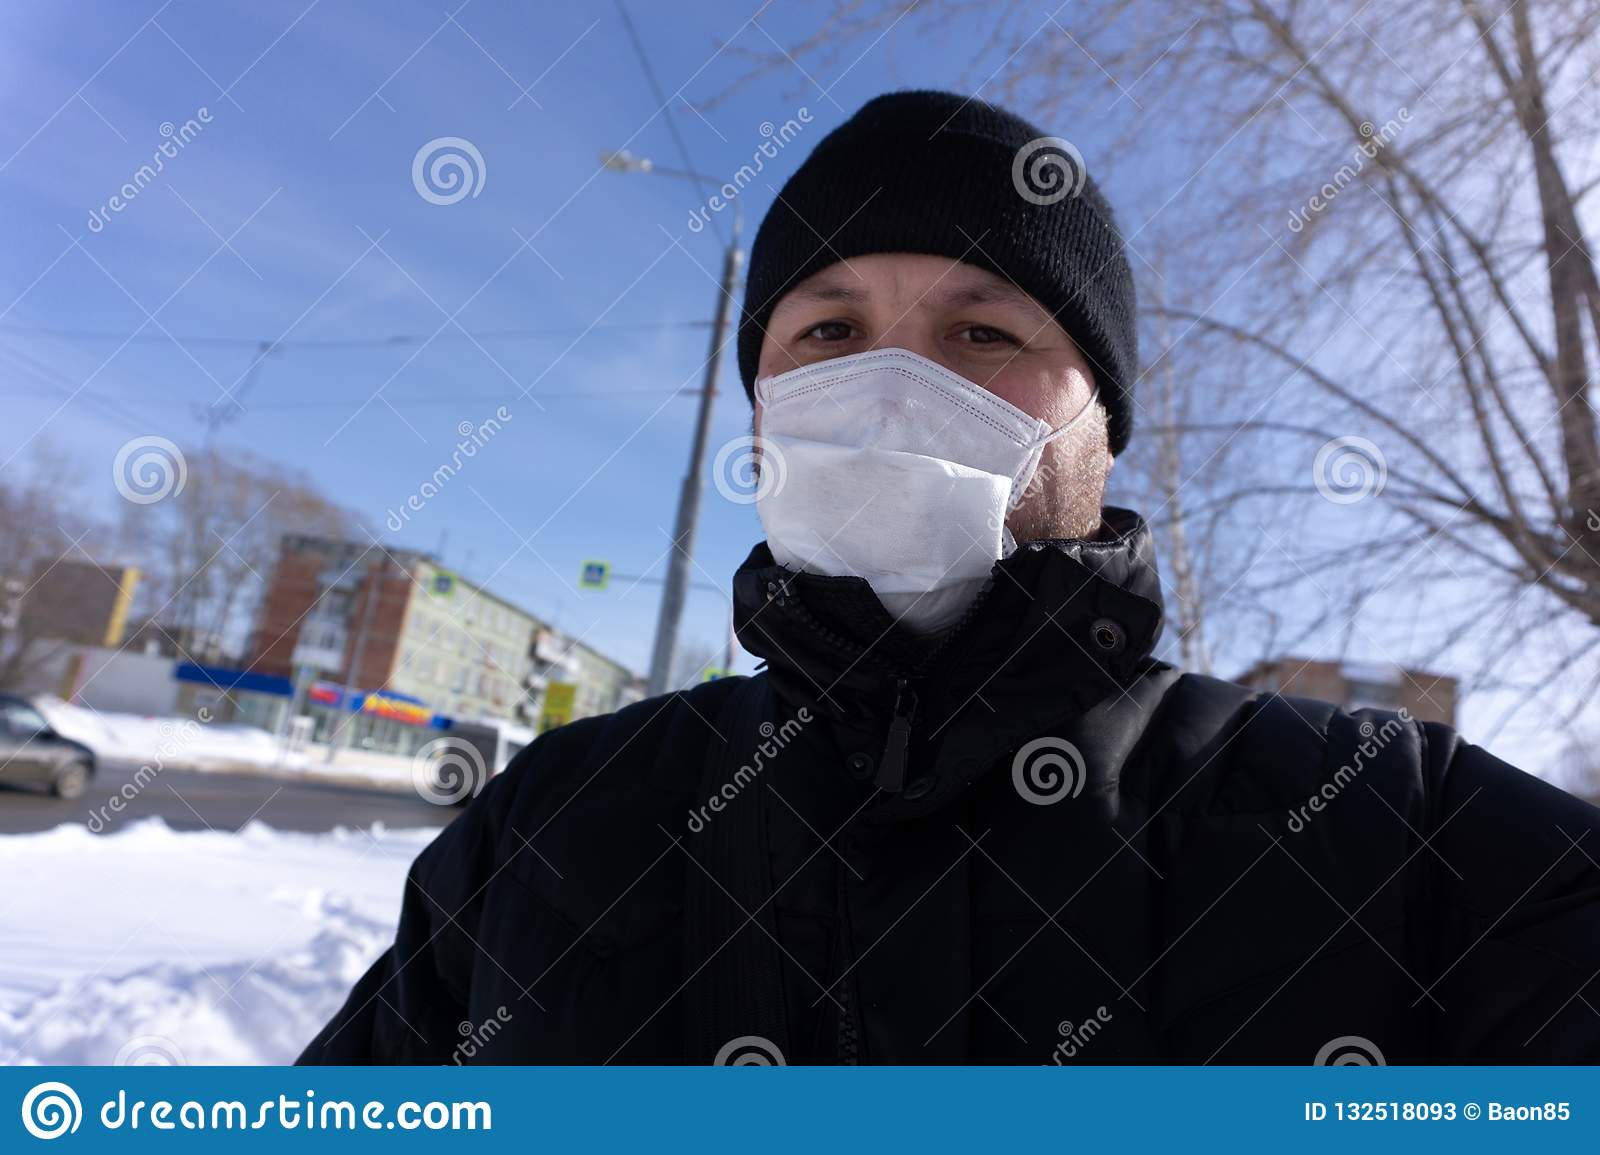mask: (745, 354, 1042, 631)
